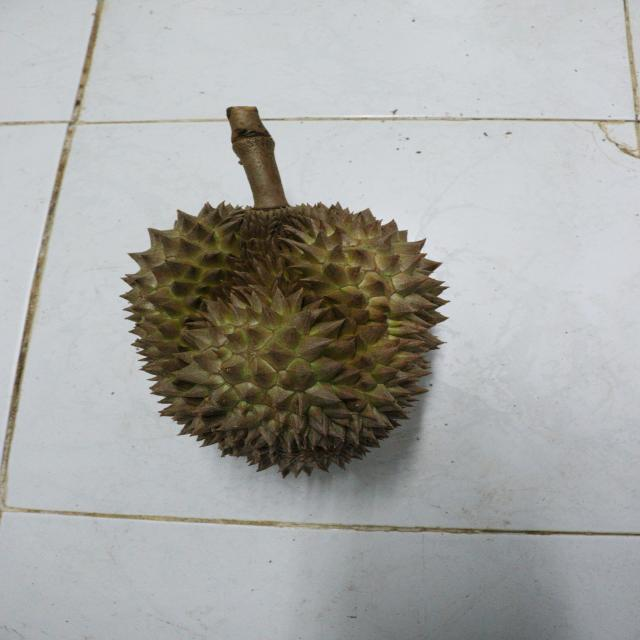mature: (119, 200, 455, 474)
